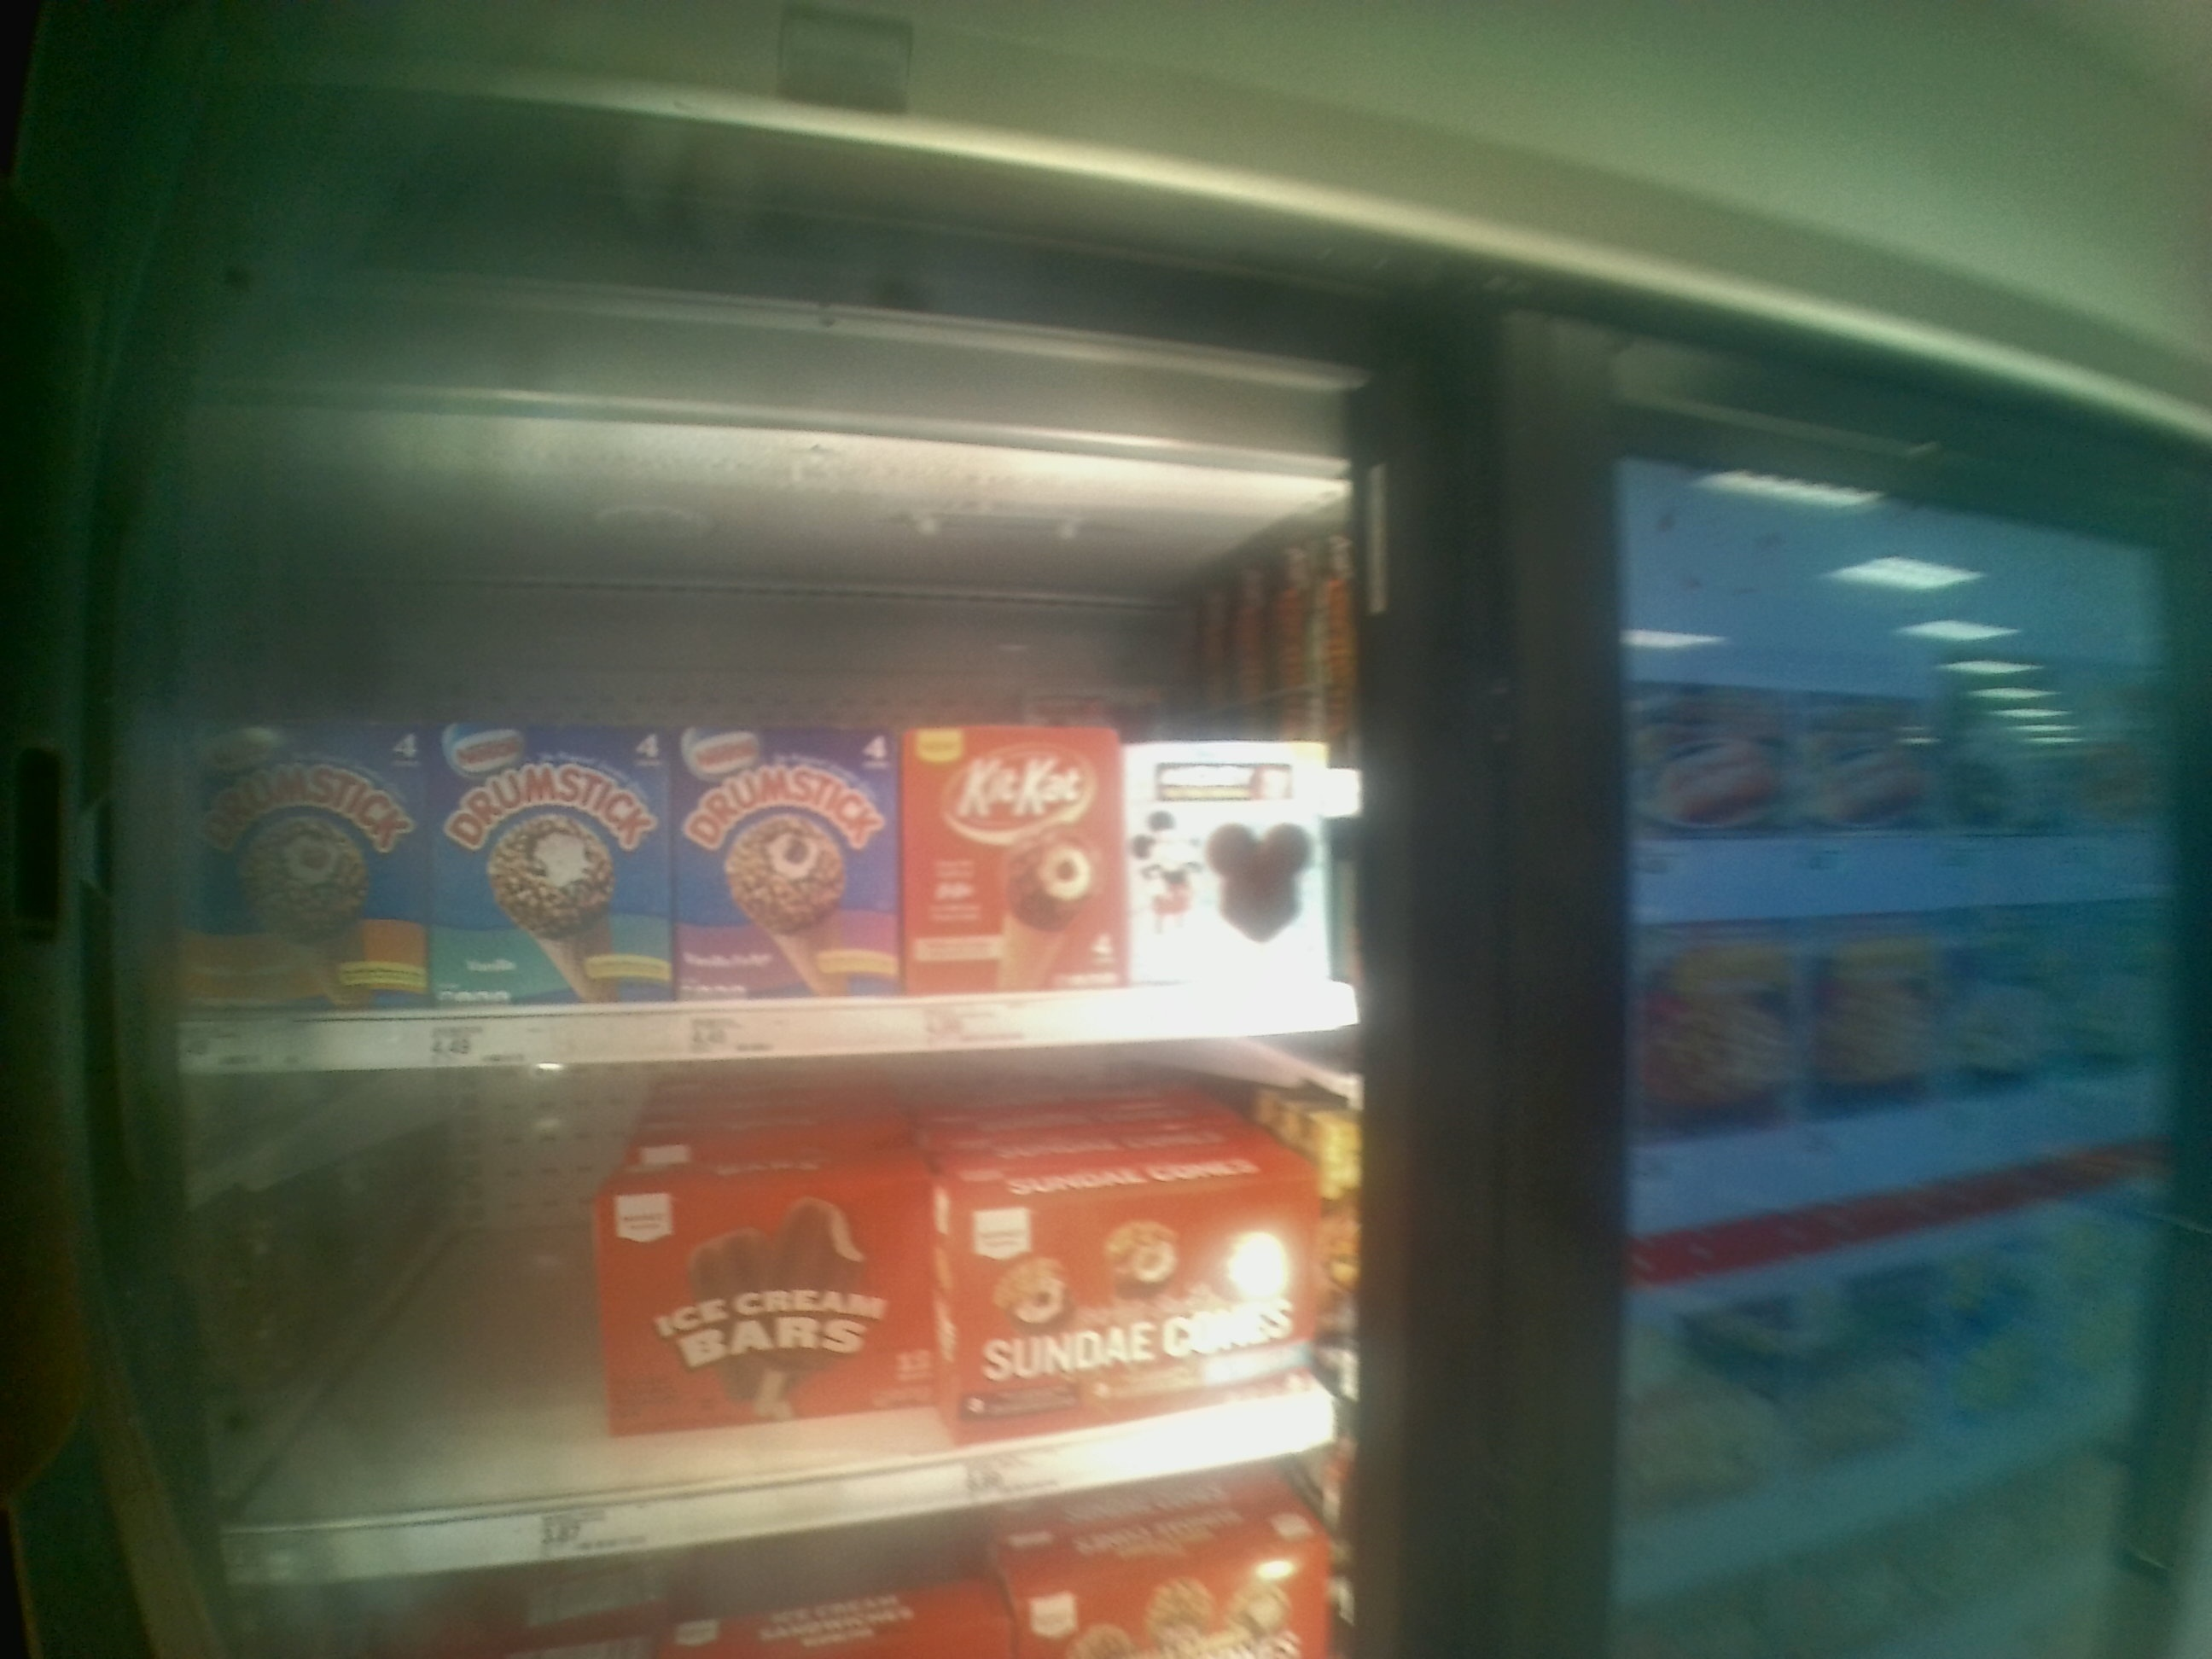shelf: (132, 1033, 1378, 1589), (131, 608, 1362, 1058)
